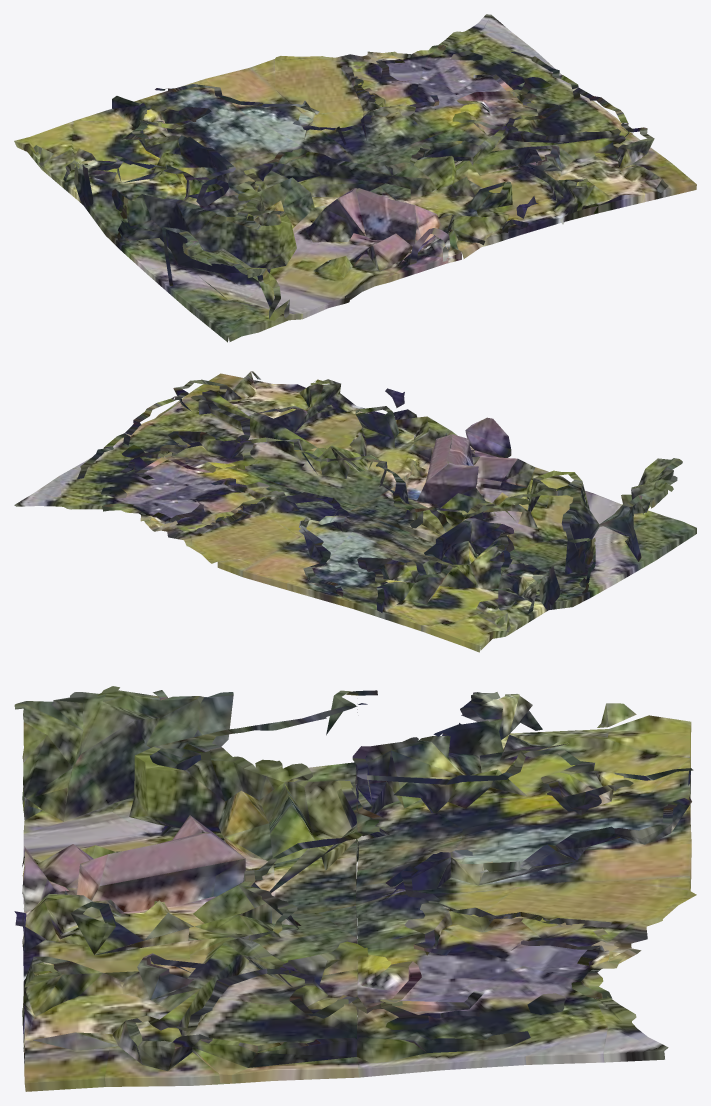
3 renders of one model, top to bottom at view 1: azimuth 30°, elevation 25°; view 2: azimuth 150°, elevation 25°; view 3: azimuth 270°, elevation 25°, orthographic. The views are drawn at different scales.
Parts seen in each view (by area): view 1: Mesh_0.327; view 2: Mesh_0.327; view 3: Mesh_0.327.
Part boxes in pixels (x1,y1,x2,y2): Mesh_0.327: (14,14,696,342); Mesh_0.327: (14,371,696,652); Mesh_0.327: (14,686,696,1091).
Size of the model in its own units: 98.42 by 14.35 by 78.39.
1 material, 1 textured.
